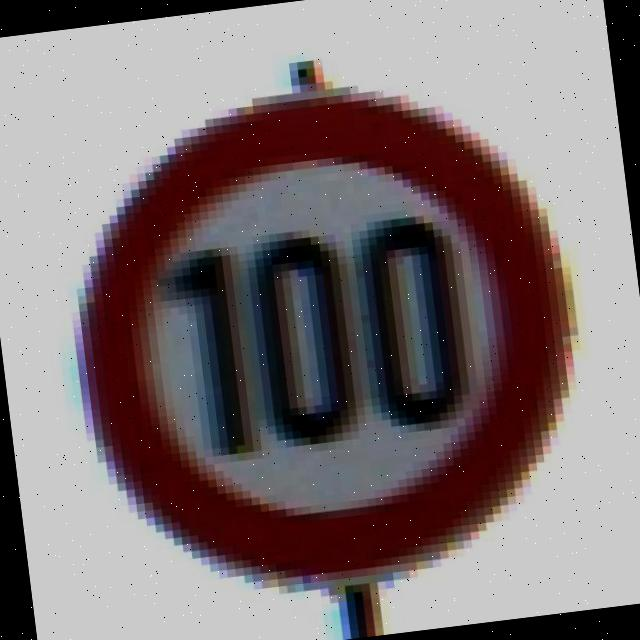Ograniczenie predkosci do 100: (54, 69, 595, 610)
